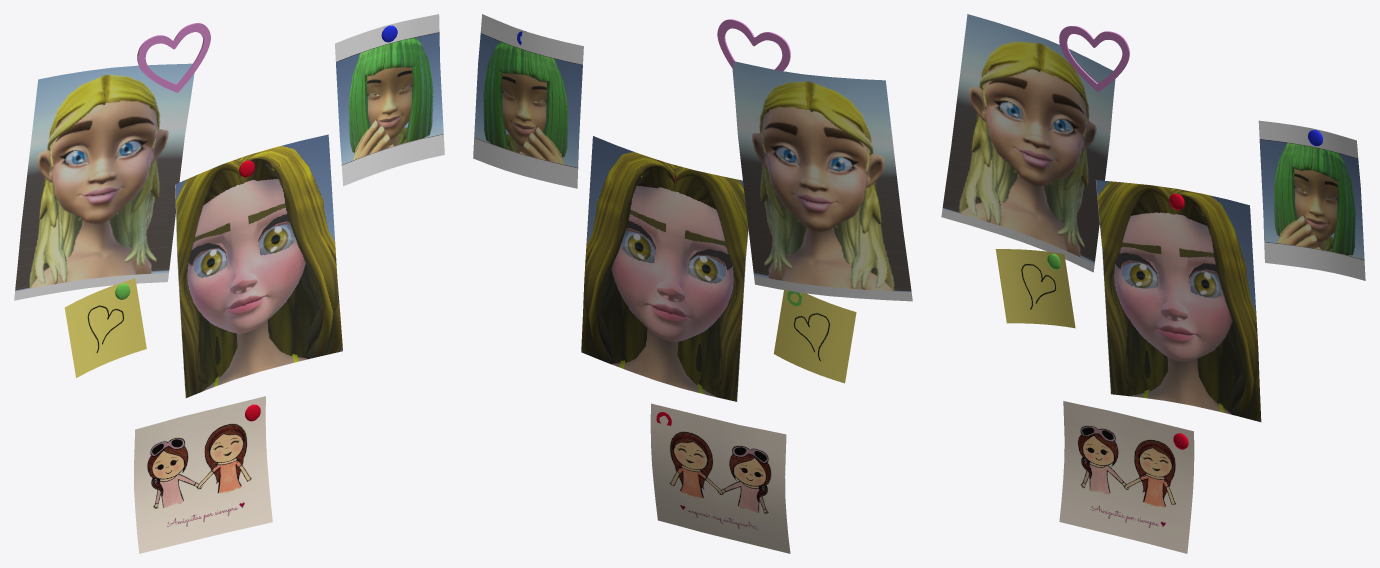
Rendered from Photos.FBX.
The picture shows the model from 3 angles, left to right: view 1: azimuth 30°, elevation 25°; view 2: azimuth 150°, elevation 25°; view 3: azimuth 330°, elevation 25°; orthographic projection. The views are drawn at different scales.
Visible parts, largest first — view 1: Photos; view 2: Photos; view 3: Photos.
Part boxes in pixels (x1=…): Photos: x1=14, y1=14, x2=444, y2=553; Photos: x1=473, y1=14, x2=912, y2=553; Photos: x1=941, y1=14, x2=1365, y2=553.
Size of the model in its own units: 32.91 by 37.46 by 1.08.
1 material, 1 textured.
